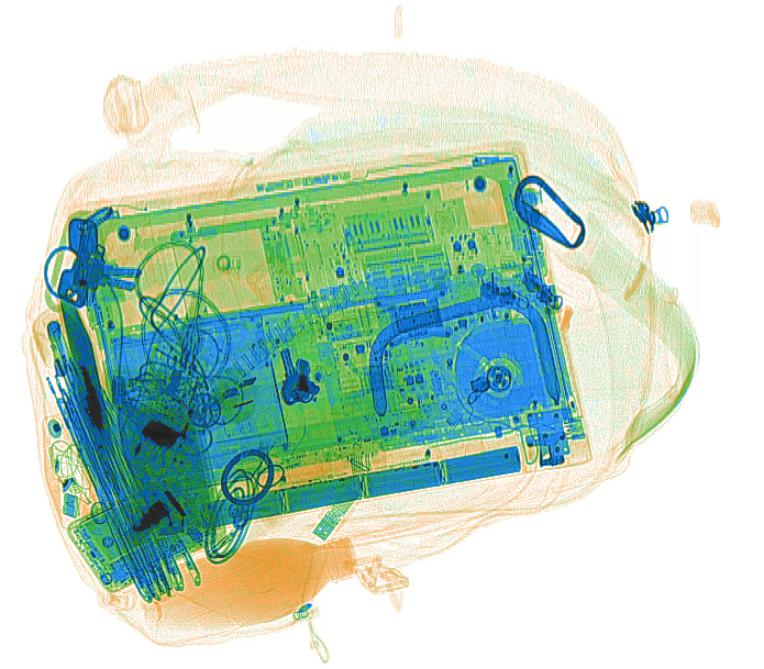USBFlashDisk: (308, 487, 359, 541)
